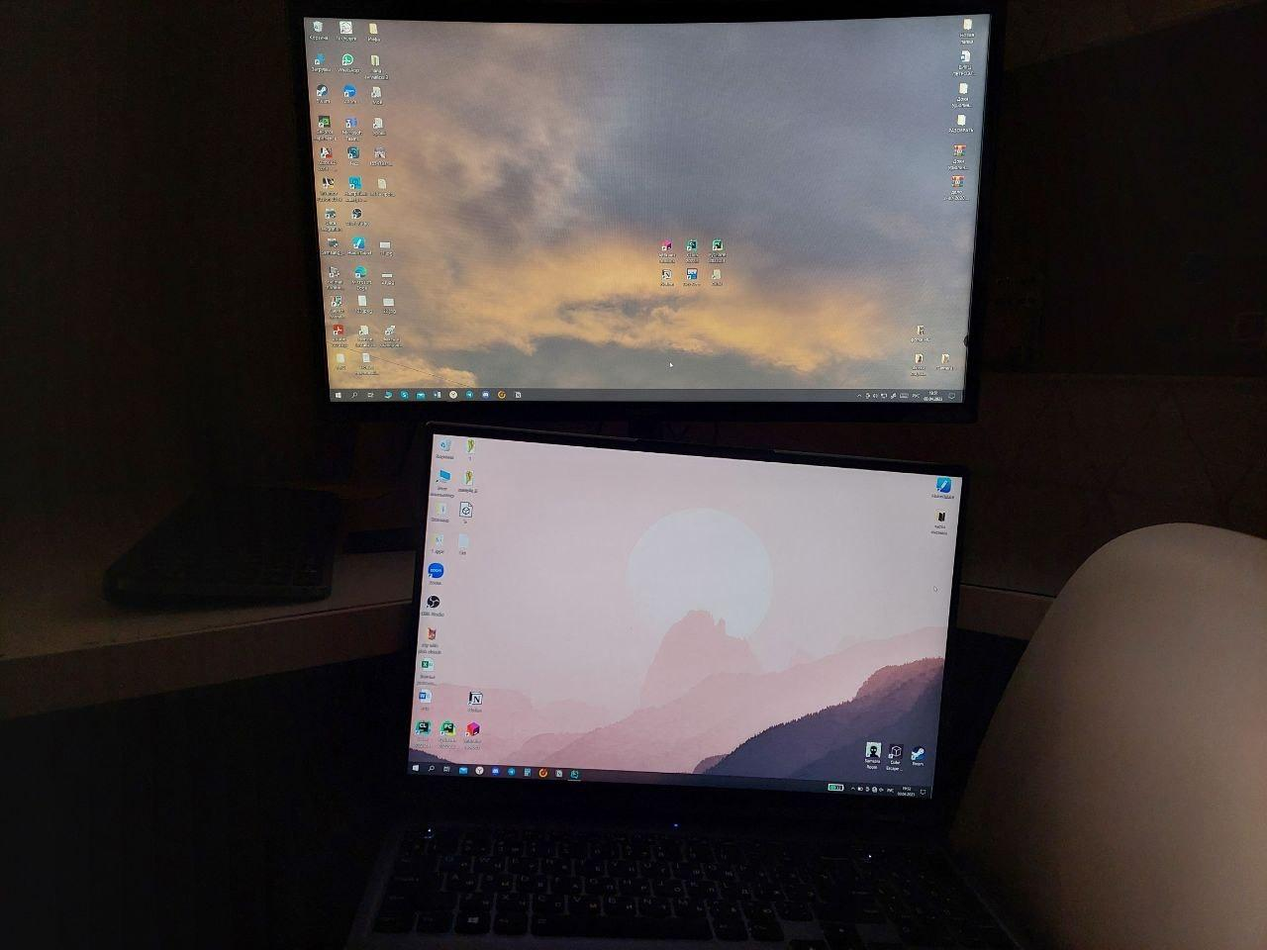monitor: (284, 0, 1003, 435), (393, 403, 981, 838)
